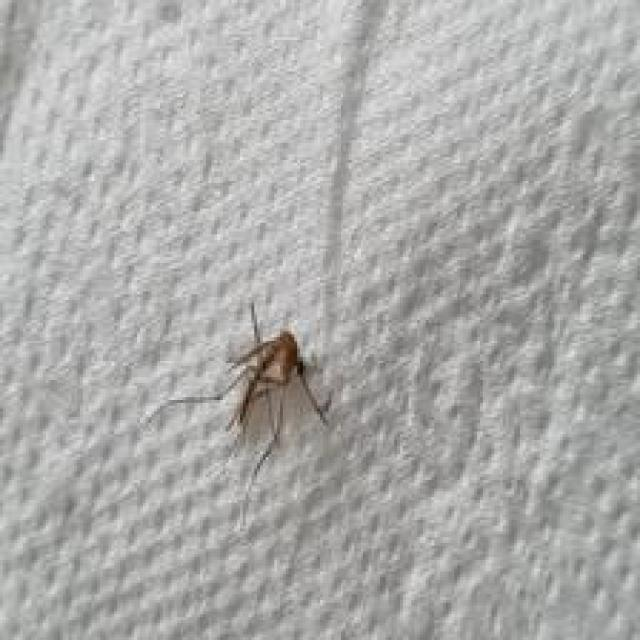Culex: (141, 300, 333, 480)
